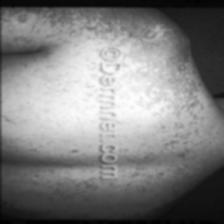Toxin: (138, 42, 174, 83), (5, 14, 24, 32)
